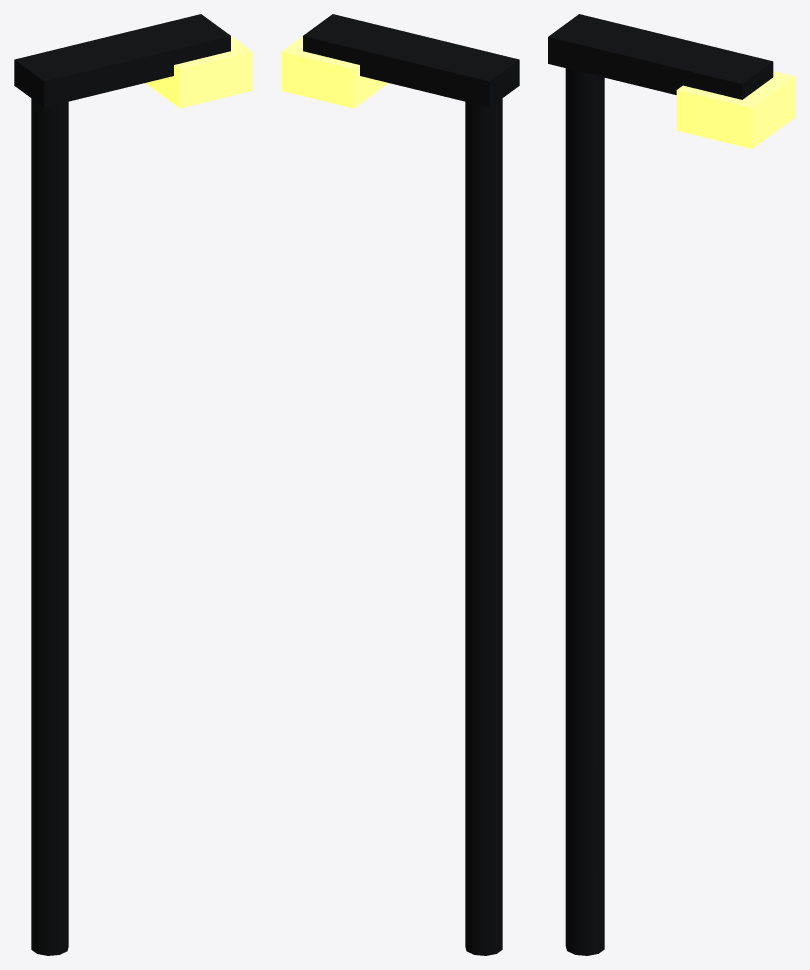
The model's file is poste-blocos.glb.
The picture shows the model from 3 angles, left to right: view 1: azimuth 30°, elevation 25°; view 2: azimuth 150°, elevation 25°; view 3: azimuth 330°, elevation 25°; orthographic projection. The views are drawn at different scales.
Parts seen in each view (by area): view 1: poste_blocos, braco, lampada; view 2: poste_blocos, braco, lampada; view 3: poste_blocos, braco, lampada.
Part boxes in pixels (bbox=[...]): poste_blocos: bbox=[31, 98, 68, 955]; braco: bbox=[14, 14, 230, 107]; lampada: bbox=[145, 36, 252, 108]; poste_blocos: bbox=[465, 98, 502, 955]; braco: bbox=[303, 14, 519, 107]; lampada: bbox=[281, 36, 388, 108]; poste_blocos: bbox=[565, 68, 604, 955]; braco: bbox=[548, 14, 773, 99]; lampada: bbox=[676, 71, 795, 148].
Size of the model in its own units: 0.975 by 4.06 by 0.35.
